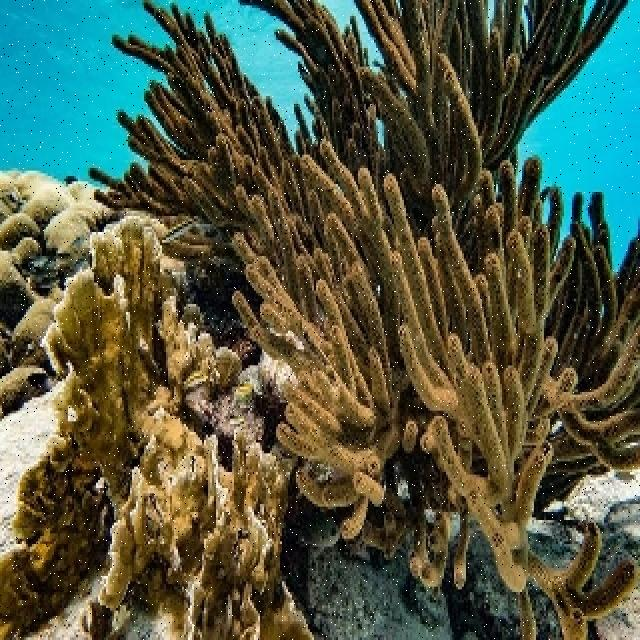reefs: (89, 0, 638, 637), (12, 220, 314, 637)
